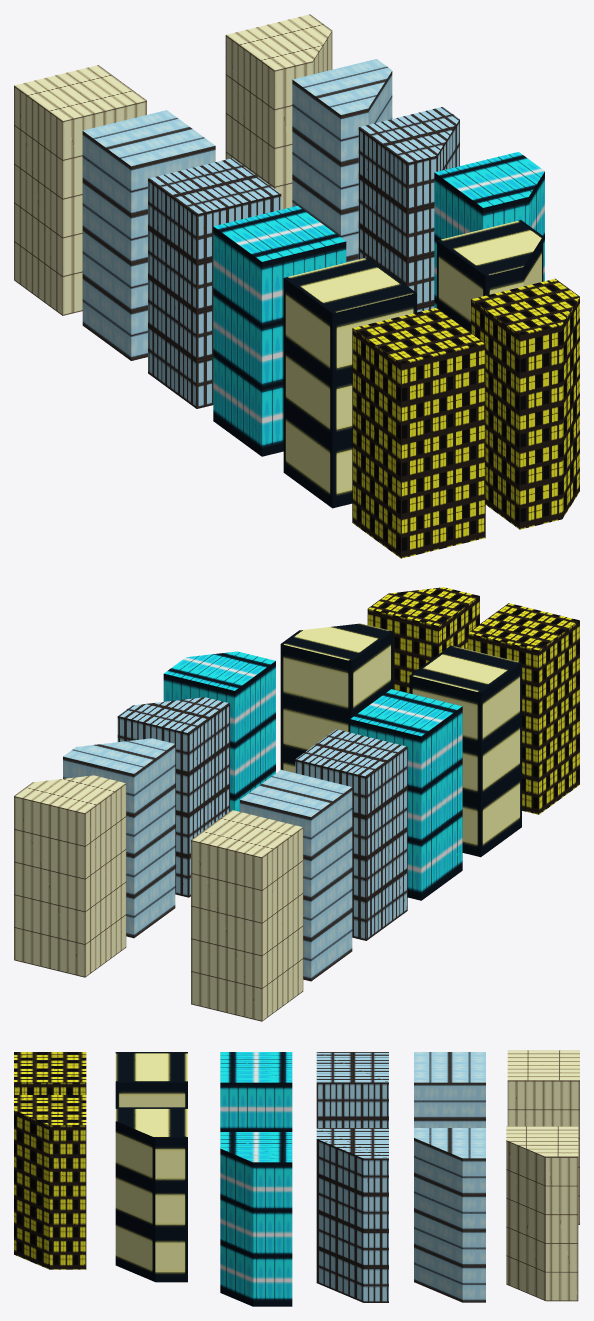
The model's file is Buildings SelfMade.fbx.
3 renders of one model, top to bottom at view 1: azimuth 30°, elevation 25°; view 2: azimuth 150°, elevation 25°; view 3: azimuth 270°, elevation 25°, orthographic. The views are drawn at different scales.
Parts seen in each view (by area): view 1: Cube.002, Cube.008, Cube.001, Cube, Cube.005, Cube.004, Cube.003, Cube.009, Cube.010, Cube.011, Cube.006, Cube.007; view 2: Cube.005, Cube.011, Cube, Cube.002, Cube.003, Cube.001, Cube.004, Cube.007, Cube.010, Cube.009, Cube.006, Cube.008; view 3: Cube.006, Cube.008, Cube.011, Cube.007, Cube.009, Cube.010, Cube.001, Cube.005, Cube.003, Cube.004, Cube, Cube.002.
Boxes of the visible parts, box(x1,y1,x2,y2) form: Cube.002: box(352, 307, 485, 558); Cube.008: box(471, 278, 579, 529); Cube.001: box(213, 206, 346, 456); Cube: box(283, 257, 416, 508); Cube.005: box(14, 65, 146, 315); Cube.004: box(82, 110, 215, 360); Cube.003: box(148, 158, 281, 408); Cube.009: box(358, 106, 459, 312); Cube.010: box(292, 59, 392, 262); Cube.011: box(225, 14, 332, 209); Cube.006: box(434, 152, 544, 307); Cube.007: box(437, 220, 543, 332); Cube.005: box(191, 810, 303, 1021); Cube.011: box(14, 775, 126, 977); Cube: box(409, 645, 521, 857); Cube.002: box(467, 603, 579, 814); Cube.003: box(295, 729, 407, 940); Cube.001: box(350, 689, 462, 900); Cube.004: box(240, 769, 352, 981); Cube.007: box(280, 623, 392, 772); Cube.010: box(63, 738, 175, 938); Cube.009: box(117, 697, 229, 897); Cube.006: box(163, 651, 275, 811); Cube.008: box(367, 587, 479, 693); Cube.006: box(220, 1132, 292, 1306); Cube.008: box(14, 1095, 86, 1269); Cube.011: box(506, 1126, 578, 1301); Cube.007: box(115, 1107, 187, 1282); Cube.009: box(316, 1128, 388, 1302); Cube.010: box(414, 1128, 485, 1302); Cube.001: box(220, 1052, 292, 1131); Cube.005: box(507, 1050, 579, 1224); Cube.003: box(316, 1052, 388, 1127); Cube.004: box(414, 1052, 485, 1127); Cube: box(115, 1052, 187, 1107); Cube.002: box(14, 1052, 86, 1094).
Bounding box in the file's own units: 3213 × 1926 × 6844.
